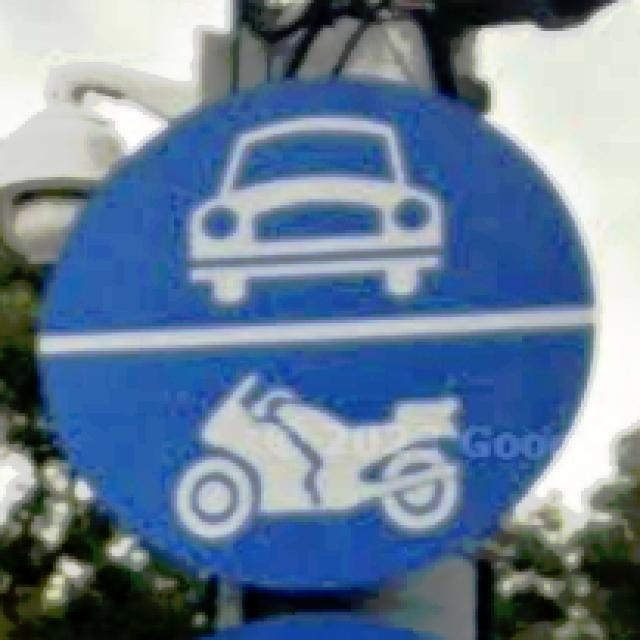carmotorcycle: (43, 85, 591, 589)
